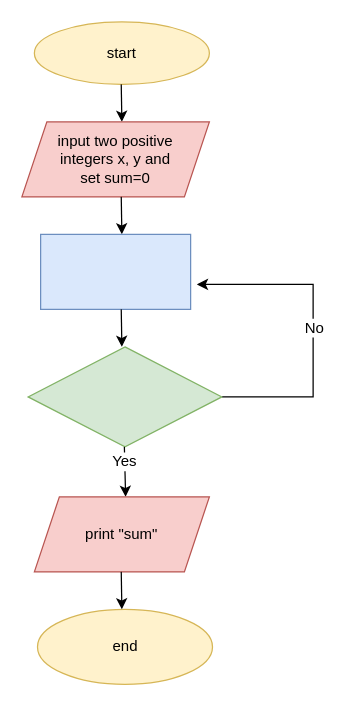
The diagram is 345 pixels wide and 706 high, and some of its shapes have lost their labels. Here are the shapes that lost their labels. From the top down, the box of each, then its label:
(39, 233, 191, 309): sum=sum+x y=y-1
(27, 346, 222, 447): check if y=0
